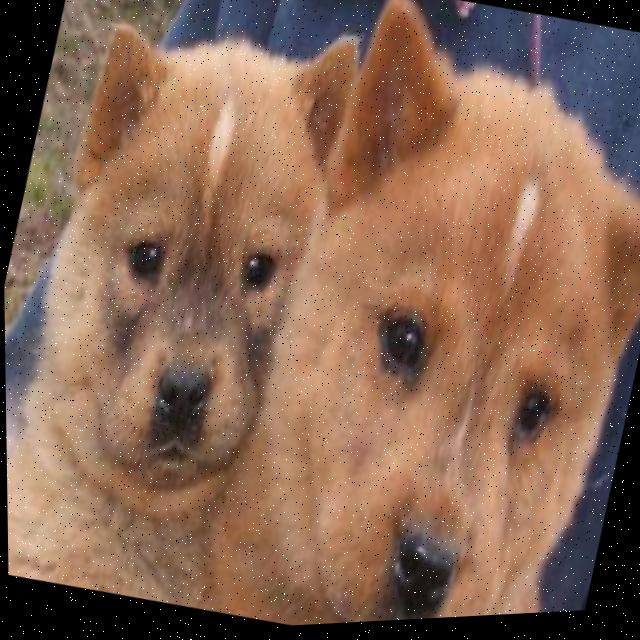dogs: (205, 0, 640, 632), (0, 0, 389, 630)
